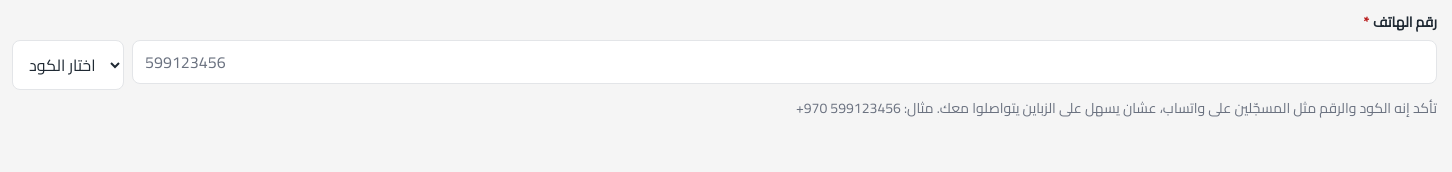
Test case: PhoneField › selects 972 and disables 970 for Israeli prefixes
The width and height of the screenshot is (1452, 172).
Later steps or results of the test are not shown.
Type "0540000000" into the field labelled "رقم الهاتف*" at (784, 62), box [132, 40, 1437, 84]
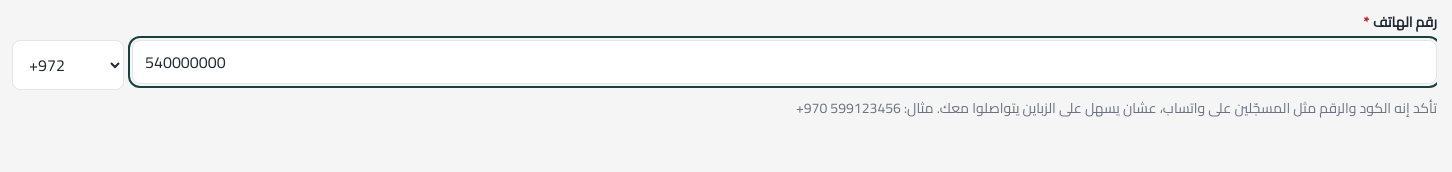
Now the dropdown named "كود الدولة" shows "+972", box [12, 40, 124, 90]
